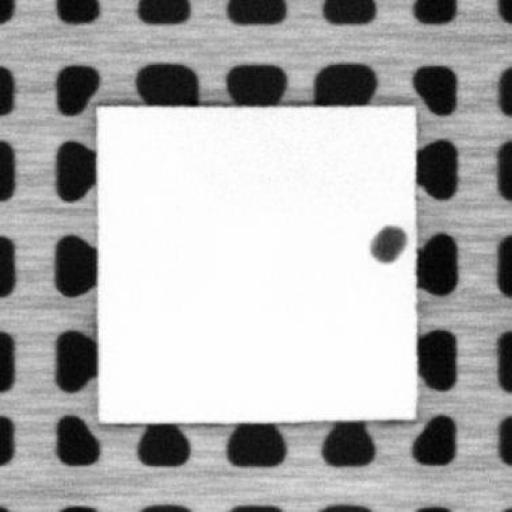DIE_INK: (364, 220, 410, 266)
